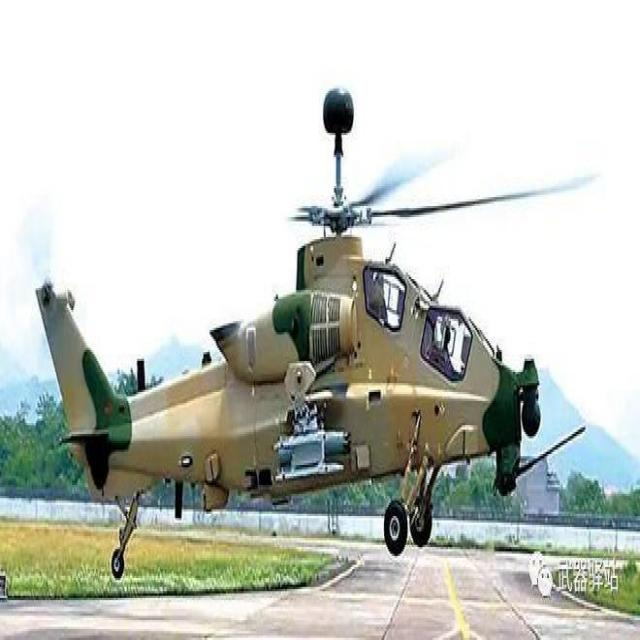MIL_HELO: (28, 73, 593, 578)
